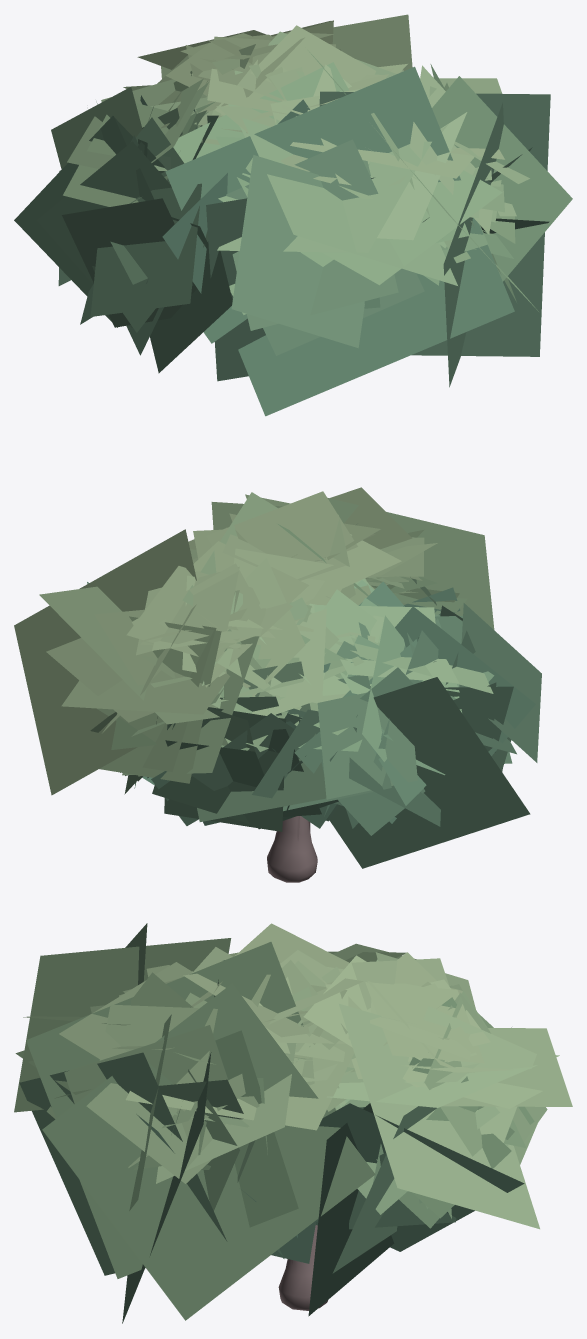
The model's file is oak_v2.glb.
The picture shows the model from 3 angles, top to bottom: view 1: azimuth 30°, elevation 25°; view 2: azimuth 150°, elevation 25°; view 3: azimuth 270°, elevation 25°; orthographic projection. The views are drawn at different scales.
Visible parts, largest first — view 1: far, near; view 2: near, far; view 3: far, near.
Boxes of the visible parts, x1,y1,x2,y2 form: far: (161,14,572,416); near: (14,20,529,373); near: (46,491,541,882); far: (14,487,535,868); far: (14,923,559,1323); near: (54,923,572,1310).
Size of the model in its own units: 17.96 by 12.91 by 17.44.
